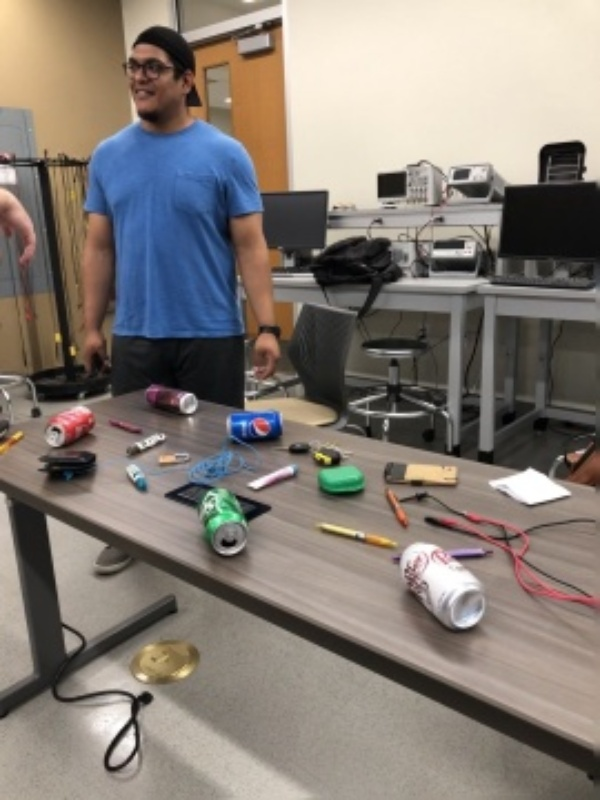can: (400, 537, 490, 635), (198, 485, 250, 559), (42, 402, 99, 452), (222, 408, 286, 445), (143, 381, 201, 417)
